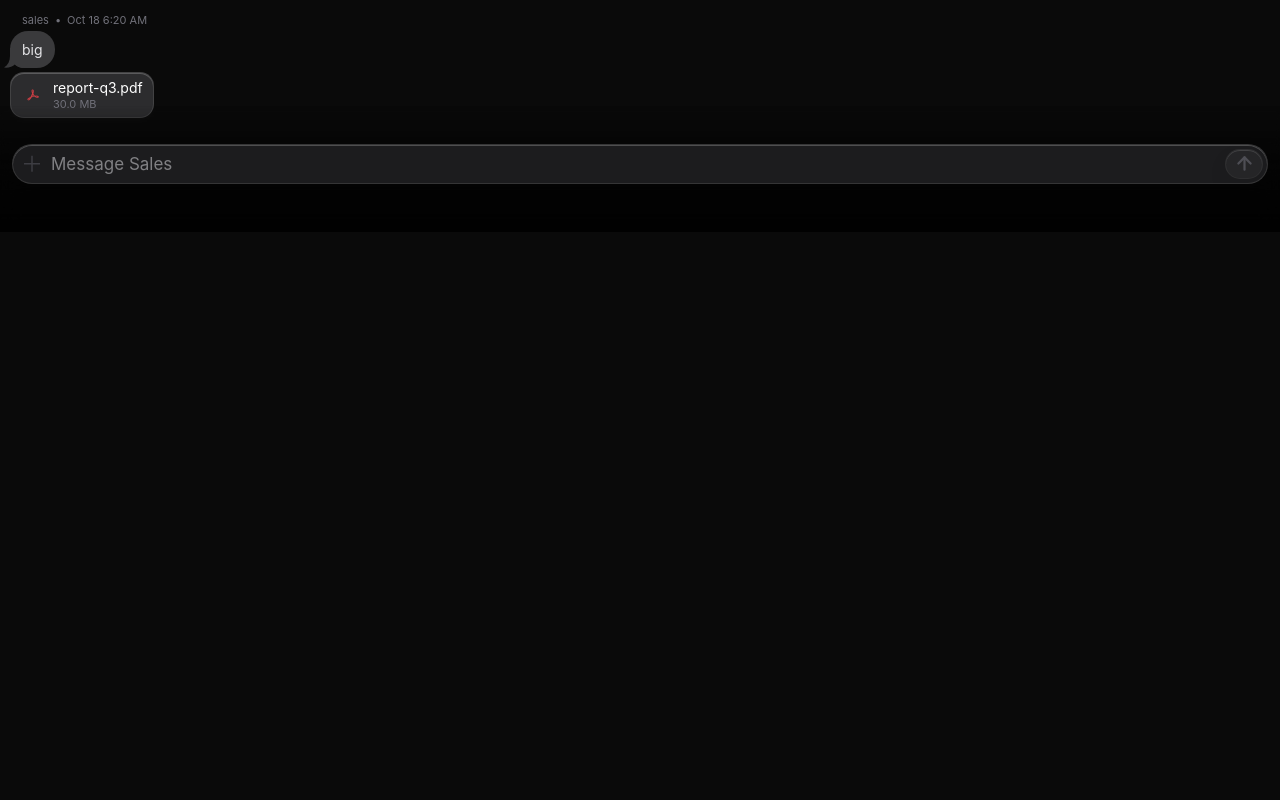
open › above 25 MB a download asks first
What coordinates should you click on to do the following:
click the button with test id "thread-file"
I would click on:
 (82, 94)
Its box is x1=10 y1=72 x2=154 y2=118.
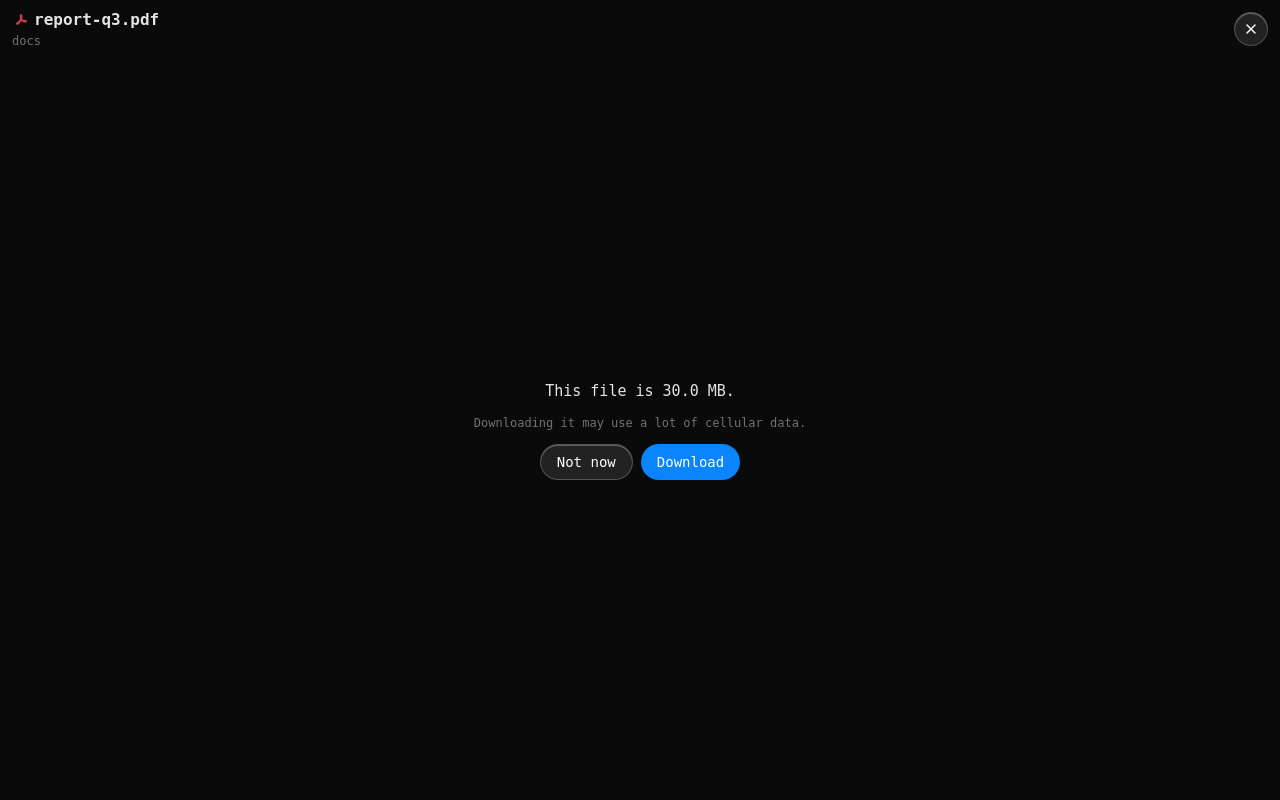
Expected: the element with test id "attachment-confirm" shows "30.0 MB", x1=663 y1=382 x2=726 y2=400
What coordinates should you click on to do the following:
click the button with test id "attachment-confirm-download"
I would click on:
 (690, 462)
Its box is x1=641 y1=444 x2=740 y2=480.
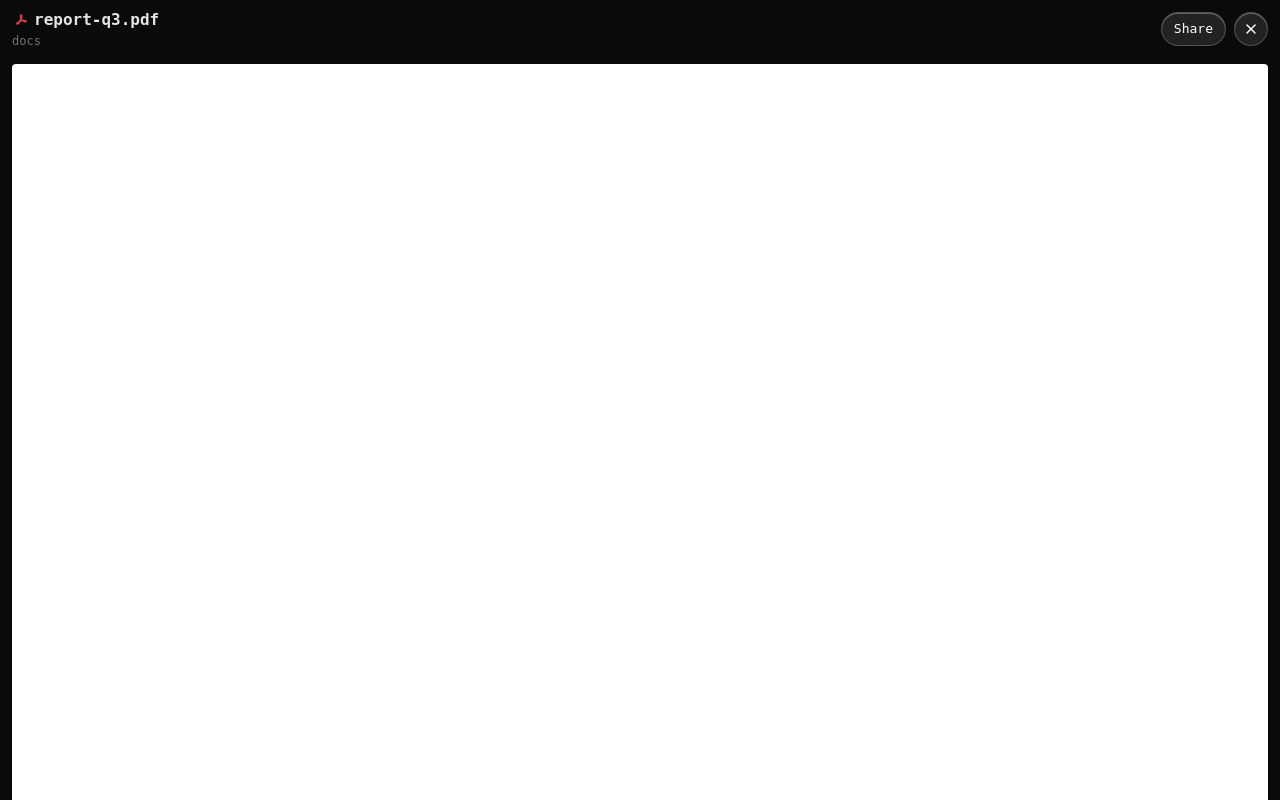
Expected: the element with test id "file-pdf" is shown
